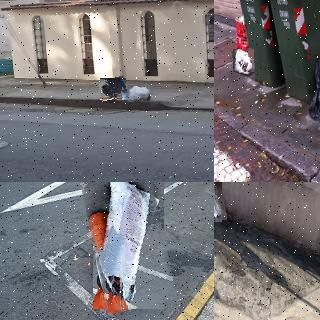Garbage: (86, 182, 170, 311), (99, 78, 127, 102), (232, 48, 255, 73), (128, 84, 151, 102), (214, 182, 224, 222), (122, 89, 132, 100)
